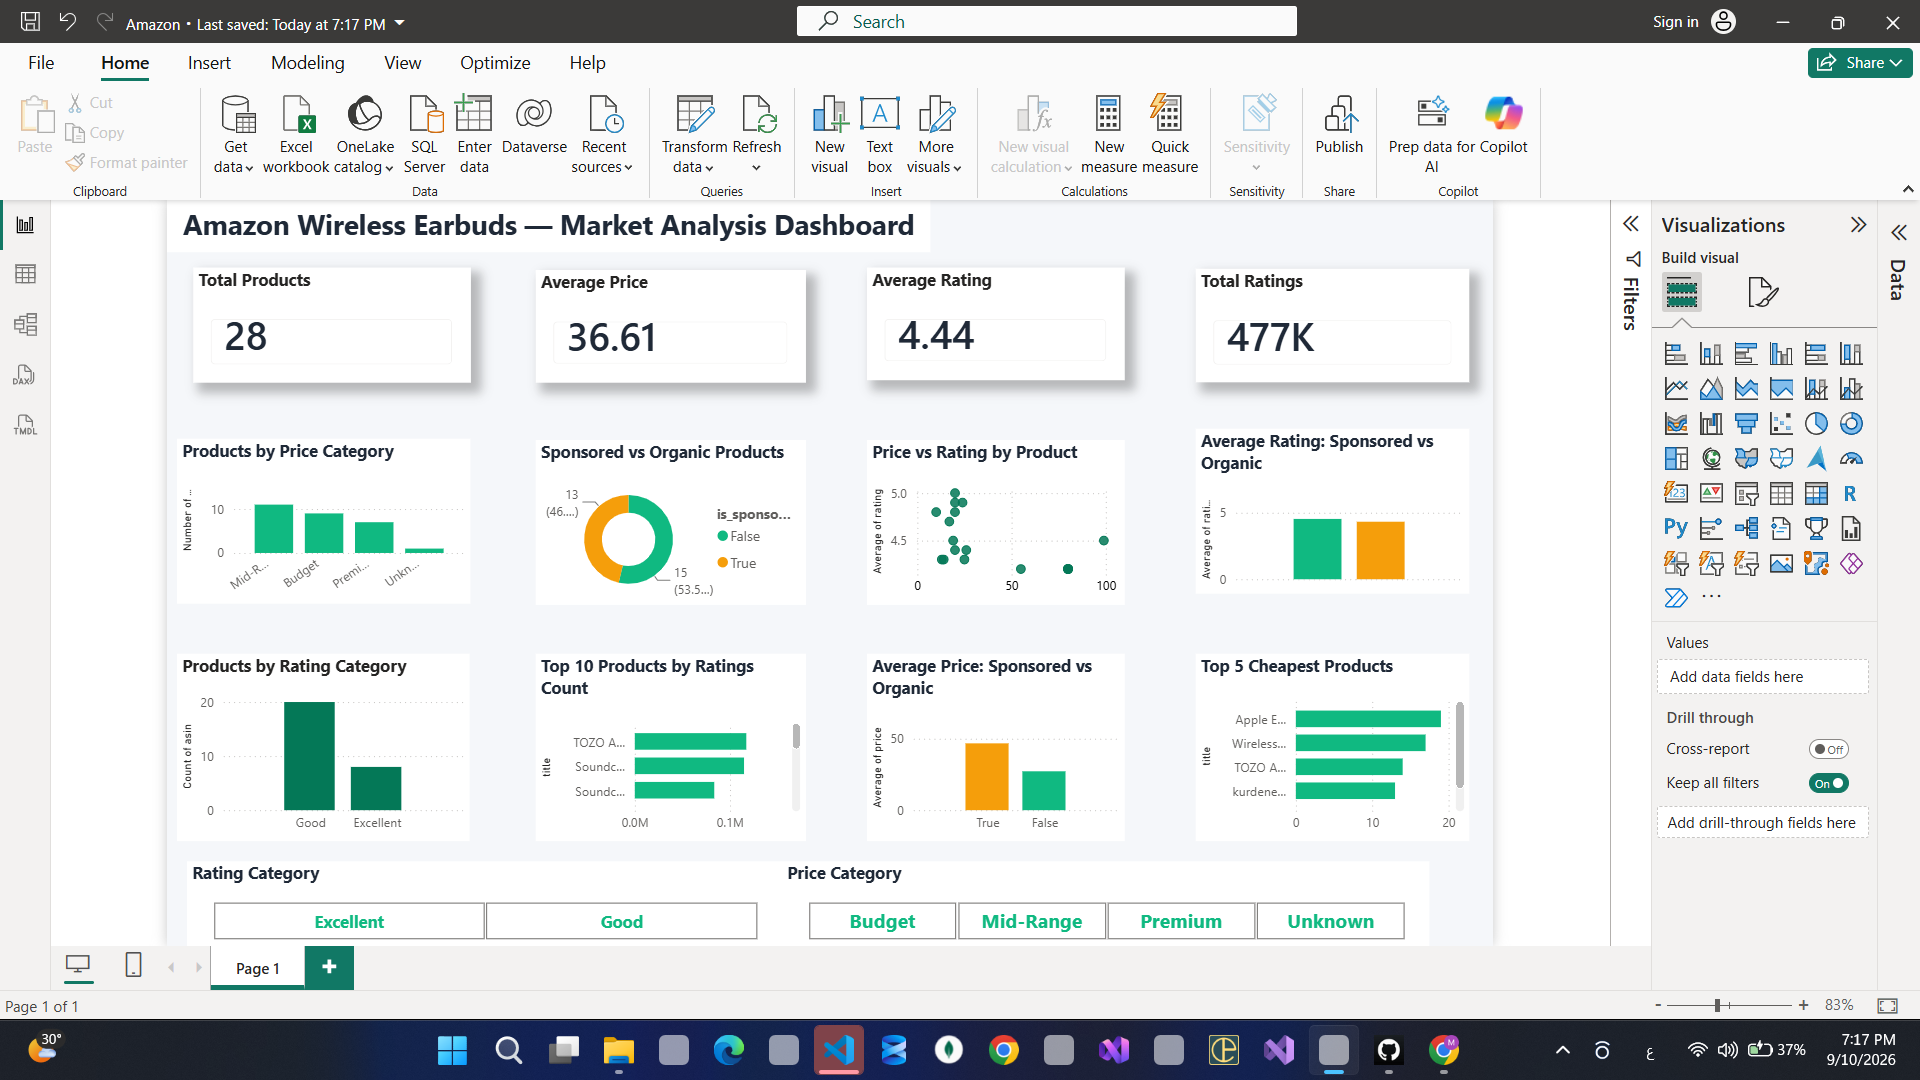

The page's visual inventory and layout, read from the dashboard file:
{"tool":"powerbi","page":{"name":"Page 1","canvas":[1280,720],"ordinal":0},"visuals":[{"type":"cardVisual","title":"Total Products","fields":{"Data":["Count(amazon_search_clean.asin)"]},"box":[25.3,65.1,267.8,111],"z":0},{"type":"cardVisual","title":"Average Price","fields":{"Data":["Avg(amazon_search_clean.price)"]},"box":[355.9,67.6,260.6,108.6],"z":1000},{"type":"cardVisual","title":"Average Rating","fields":{"Data":["Avg(amazon_search_clean.rating)"]},"box":[675.6,65.1,248.5,108.6],"z":2000},{"type":"cardVisual","title":"Total Ratings","fields":{"Data":["Sum(amazon_search_clean.ratings_count)"]},"box":[992.9,66.4,264.2,109.8],"z":3000},{"type":"clusteredColumnChart","title":"Products by Price Category","fields":{"Category":["amazon_search_clean.price_category"],"Y":["CountNonNull(amazon_search_clean.asin)"]},"box":[9.7,230.4,283.5,159.3],"z":4000},{"type":"clusteredColumnChart","title":"Products by Rating Category","fields":{"Category":["amazon_search_clean.rating_category"],"Y":["CountNonNull(amazon_search_clean.asin)"]},"box":[9.7,437.9,282.3,181],"z":5000},{"type":"donutChart","title":"Sponsored vs Organic Products","fields":{"Category":["amazon_search_clean.is_sponsored"],"Y":["CountNonNull(amazon_search_clean.asin)"]},"box":[355.9,231.6,260.6,159.3],"z":6000},{"type":"clusteredBarChart","title":"Top 10 Products by Ratings Count","fields":{"Category":["amazon_search_clean.title"],"Y":["Sum(amazon_search_clean.ratings_count)"]},"box":[355.9,437.9,260.6,181],"z":7000},{"type":"scatterChart","title":"Price vs Rating by Product","fields":{"X":["Avg(amazon_search_clean.price)"],"Y":["Avg(amazon_search_clean.rating)"],"Category":["amazon_search_clean.title"]},"box":[675.6,231.6,248.5,159.3],"z":8000},{"type":"clusteredColumnChart","title":"Average Price: Sponsored vs Organic","fields":{"Category":["amazon_search_clean.is_sponsored"],"Y":["Avg(amazon_search_clean.price)"]},"box":[675.6,437.9,248.5,181],"z":9000},{"type":"clusteredColumnChart","title":"Average Rating: Sponsored vs Organic","fields":{"Category":["amazon_search_clean.is_sponsored"],"Y":["Avg(amazon_search_clean.rating)"]},"box":[992.9,220.8,264.2,159.3],"z":10000},{"type":"clusteredBarChart","title":"Top 5 Cheapest Products","fields":{"Category":["amazon_search_clean.title"],"Y":["Min(amazon_search_clean.price)"]},"box":[992.9,437.9,264.2,181],"z":11000},{"type":"textbox","box":[0,0,737.1,50.7],"z":12000},{"type":"slicer","title":"Price Category","fields":{"Values":["amazon_search_clean.price_category"]},"box":[593.6,638.2,624.9,82],"z":13000},{"type":"slicer","title":"Rating Category","fields":{"Values":["amazon_search_clean.rating_category"]},"box":[19.3,638.2,574.3,82],"z":14000}]}

Visuals, with their boxes on the page's 1280x720 design canvas (x1, y1, x2, y2). These are canvas units, not pixel positions in the 1920x1080 screenshot, which may show the page scaled, cropped or inside an application window:
"Total Products" cardVisual: box=[25, 65, 293, 176]
"Average Price" cardVisual: box=[356, 68, 616, 176]
"Average Rating" cardVisual: box=[676, 65, 924, 174]
"Total Ratings" cardVisual: box=[993, 66, 1257, 176]
"Products by Price Category" clusteredColumnChart: box=[10, 230, 293, 390]
"Products by Rating Category" clusteredColumnChart: box=[10, 438, 292, 619]
"Sponsored vs Organic Products" donutChart: box=[356, 232, 616, 391]
"Top 10 Products by Ratings Count" clusteredBarChart: box=[356, 438, 616, 619]
"Price vs Rating by Product" scatterChart: box=[676, 232, 924, 391]
"Average Price: Sponsored vs Organic" clusteredColumnChart: box=[676, 438, 924, 619]
"Average Rating: Sponsored vs Organic" clusteredColumnChart: box=[993, 221, 1257, 380]
"Top 5 Cheapest Products" clusteredBarChart: box=[993, 438, 1257, 619]
textbox: box=[0, 0, 737, 51]
"Price Category" slicer: box=[594, 638, 1218, 720]
"Rating Category" slicer: box=[19, 638, 594, 720]
